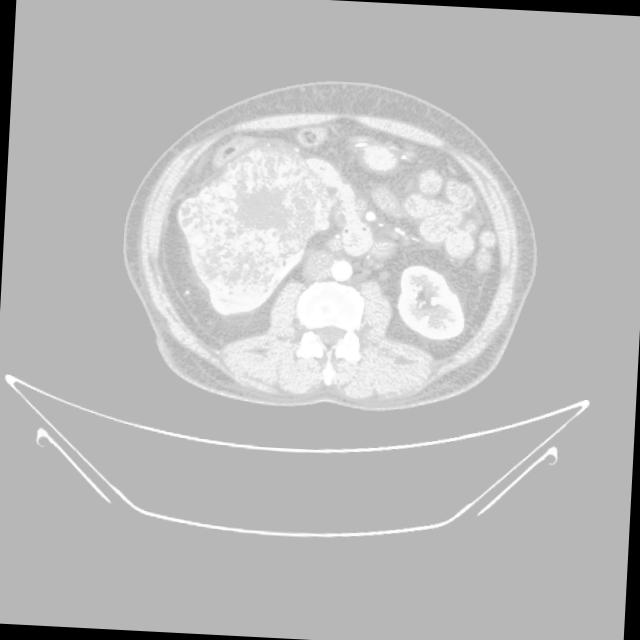TUMOR: (189, 162, 545, 344)
